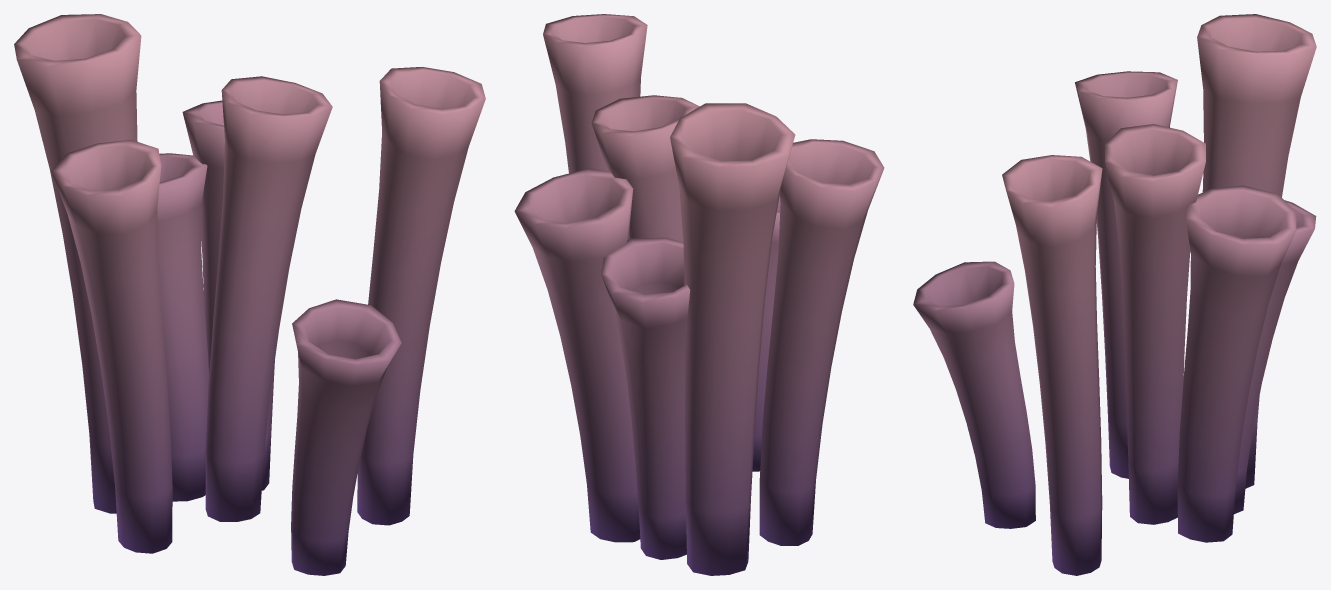
File: coral-sponge.glb
The picture shows the model from 3 angles, left to right: view 1: azimuth 30°, elevation 25°; view 2: azimuth 150°, elevation 25°; view 3: azimuth 270°, elevation 25°; orthographic projection. The views are drawn at different scales.
Visible parts, largest first — view 1: coral-sponge.001; view 2: coral-sponge.001; view 3: coral-sponge.001.
Boxes of the visible parts, bbox=[...] form: coral-sponge.001: bbox=[14, 14, 485, 575]; coral-sponge.001: bbox=[514, 14, 884, 575]; coral-sponge.001: bbox=[913, 14, 1316, 575].
Size of the model in its own units: 2.13 by 2.5 by 2.08.
